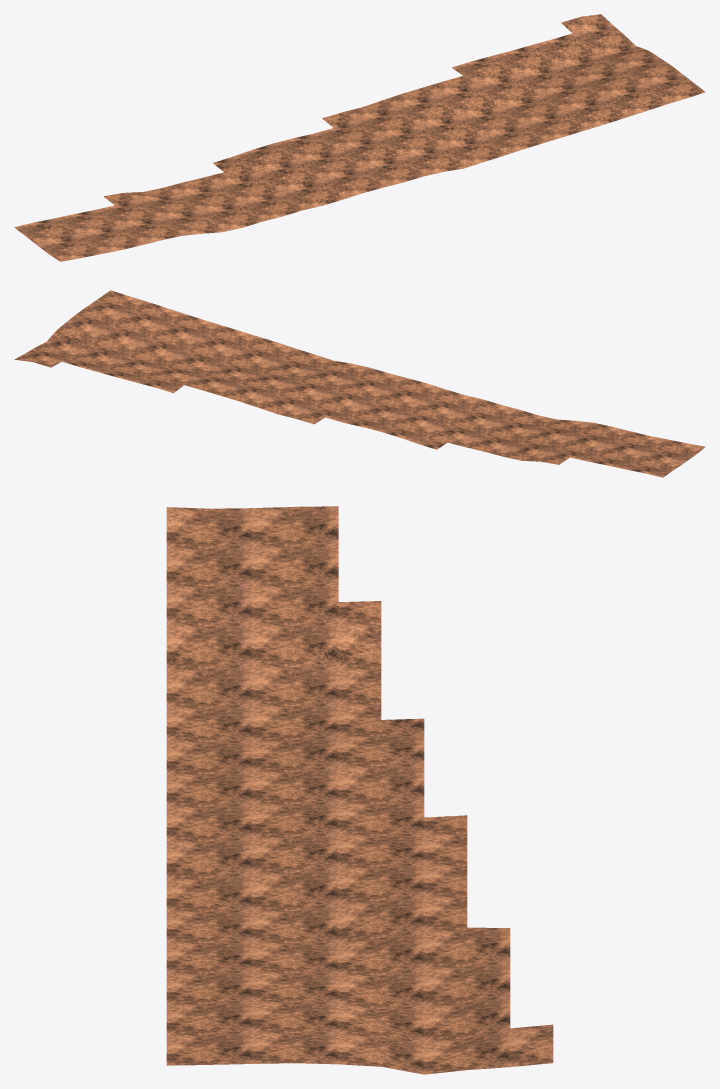
File: terrain_12_15.dae
3 views of the same model, one above another, from view 1: azimuth 30°, elevation 25°; view 2: azimuth 150°, elevation 25°; view 3: azimuth 270°, elevation 25° (orthographic). The views are drawn at different scales.
Parts seen in each view (by area): view 1: terrain_12_15-node; view 2: terrain_12_15-node; view 3: terrain_12_15-node.
Boxes of the visible parts, bbox=[...] form: terrain_12_15-node: bbox=[14, 14, 705, 261]; terrain_12_15-node: bbox=[14, 290, 705, 477]; terrain_12_15-node: bbox=[166, 506, 553, 1074].
Size of the model in its own units: 128 by 36 by 4.97.
Materials: 1 (1 with a texture image).
